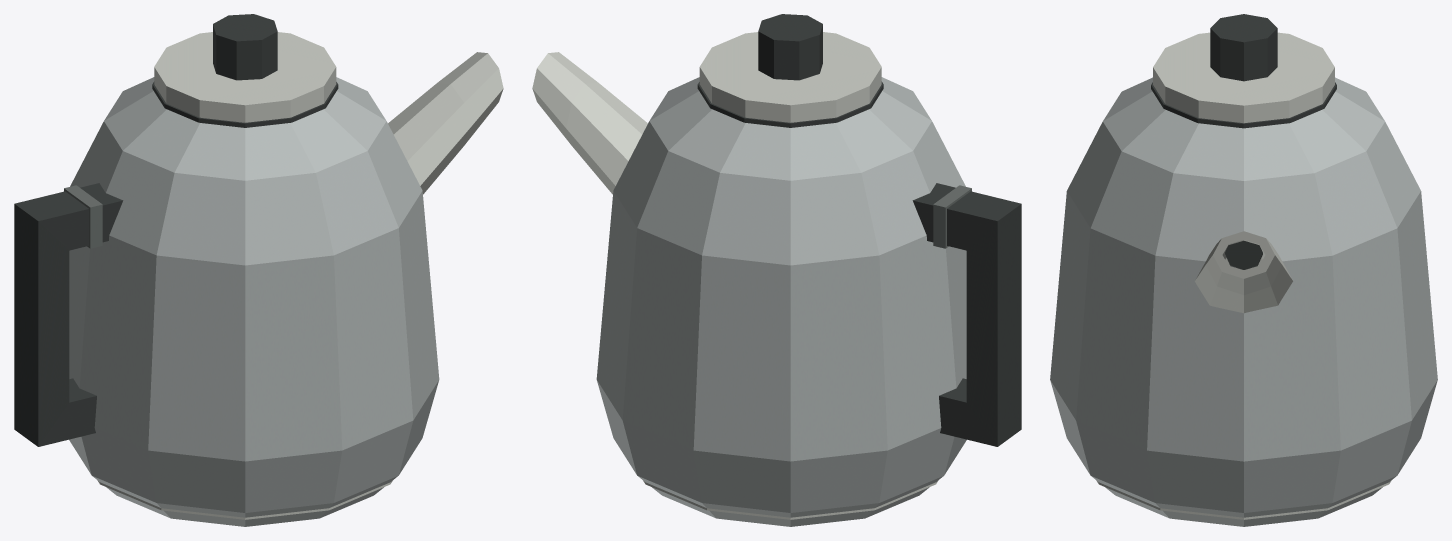
File: kettle.glb
3 renders of one model, left to right at view 1: azimuth 30°, elevation 25°; view 2: azimuth 150°, elevation 25°; view 3: azimuth 270°, elevation 25°, orthographic.
Parts seen in each view (by area): view 1: home_kettle; view 2: home_kettle; view 3: home_kettle.
Part boxes in pixels (box(x1,y1,x2,y2)): home_kettle: box(14, 14, 503, 526); home_kettle: box(532, 14, 1021, 526); home_kettle: box(1050, 14, 1437, 526).
Size of the model in its own units: 0.2225 by 0.201 by 0.162.
Materials: 1 (1 with a texture image).
